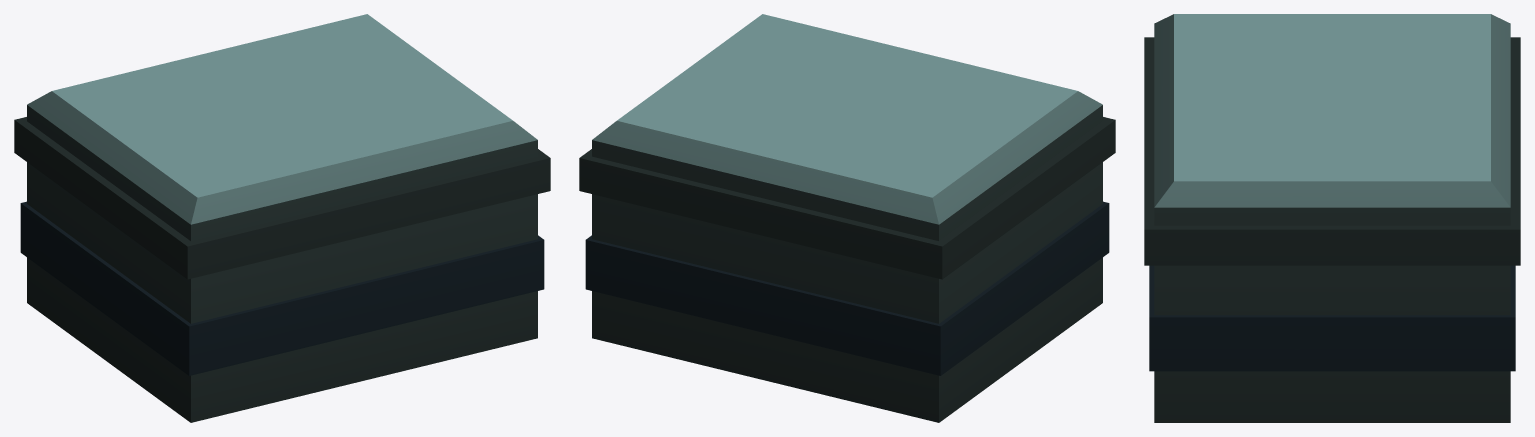
Rendered from requester-chest.glb.
3 views of the same model, side by side, from view 1: azimuth 30°, elevation 25°; view 2: azimuth 150°, elevation 25°; view 3: azimuth 270°, elevation 25° (orthographic). The views are drawn at different scales.
Visible parts, largest first — view 1: requester-chest; view 2: requester-chest; view 3: requester-chest.
Boxes of the visible parts, left/top/right/bottom form: requester-chest: left=14, top=14, right=550, bottom=422; requester-chest: left=579, top=14, right=1115, bottom=422; requester-chest: left=1144, top=14, right=1520, bottom=422.
Size of the model in its own units: 0.23 by 0.13 by 0.19.
